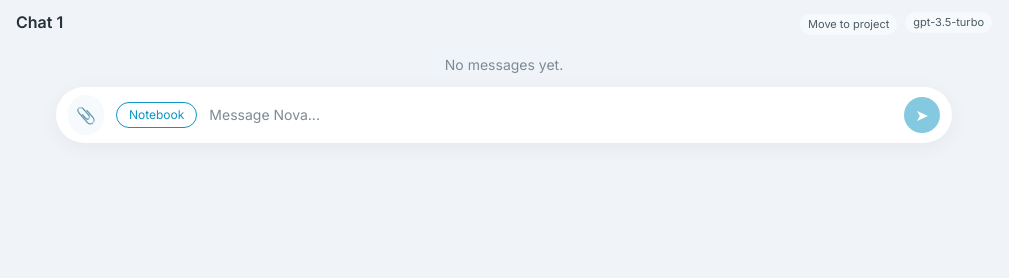
Test: ChatPanel › shows user message before assistant response
Type "User message" into the field with placeholder "Message Nova..." at (551, 114), box [209, 104, 892, 124]
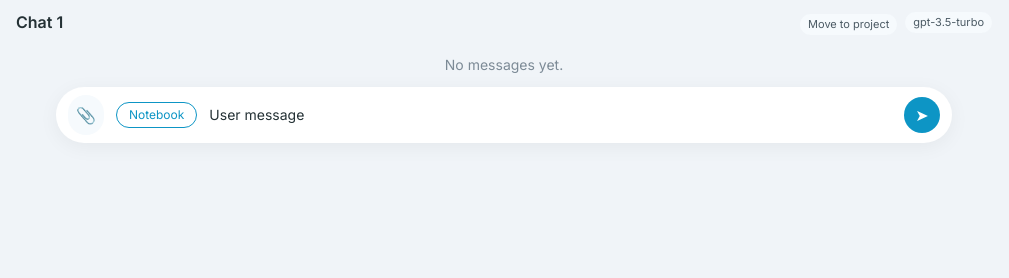
Click the submit button at (922, 114), box [904, 96, 940, 132]
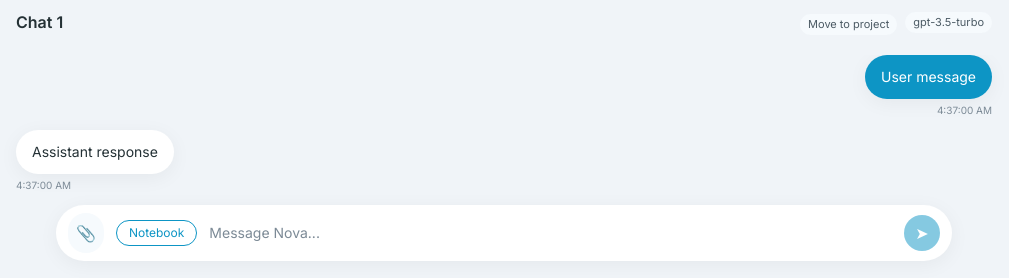
expect the text "User message" is shown: met, box [881, 66, 976, 86]
expect the text "Assistant response" is shown: met, box [32, 142, 158, 162]
